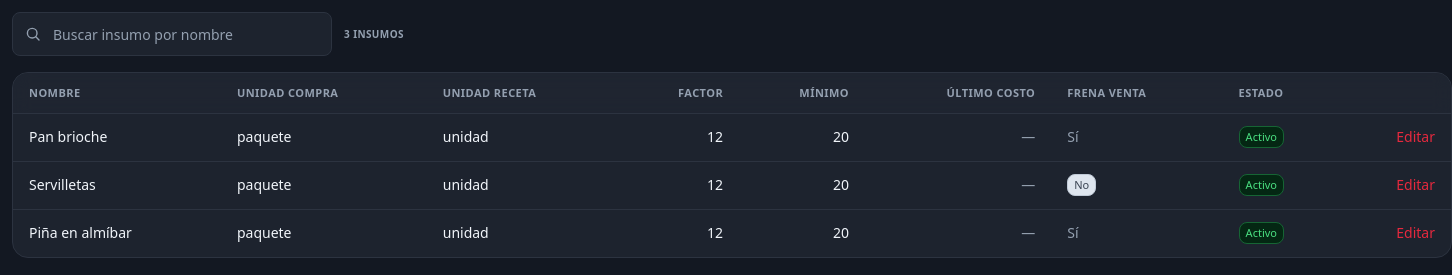
Test case: buscador de insumos › deja solo lo que coincide
The width and height of the screenshot is (1452, 275).
Type "pan" into the search field labelled "Buscar insumo por nombre". click: x=172, y=34
box: [13,13,331,55]
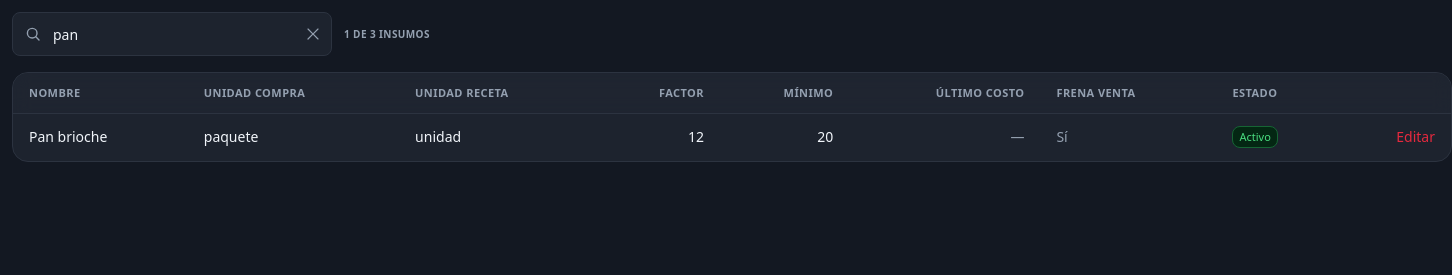
Expected: the text "Pan brioche" is shown, [29,127,107,146]
Expected: the text "Servilletas" is gone
